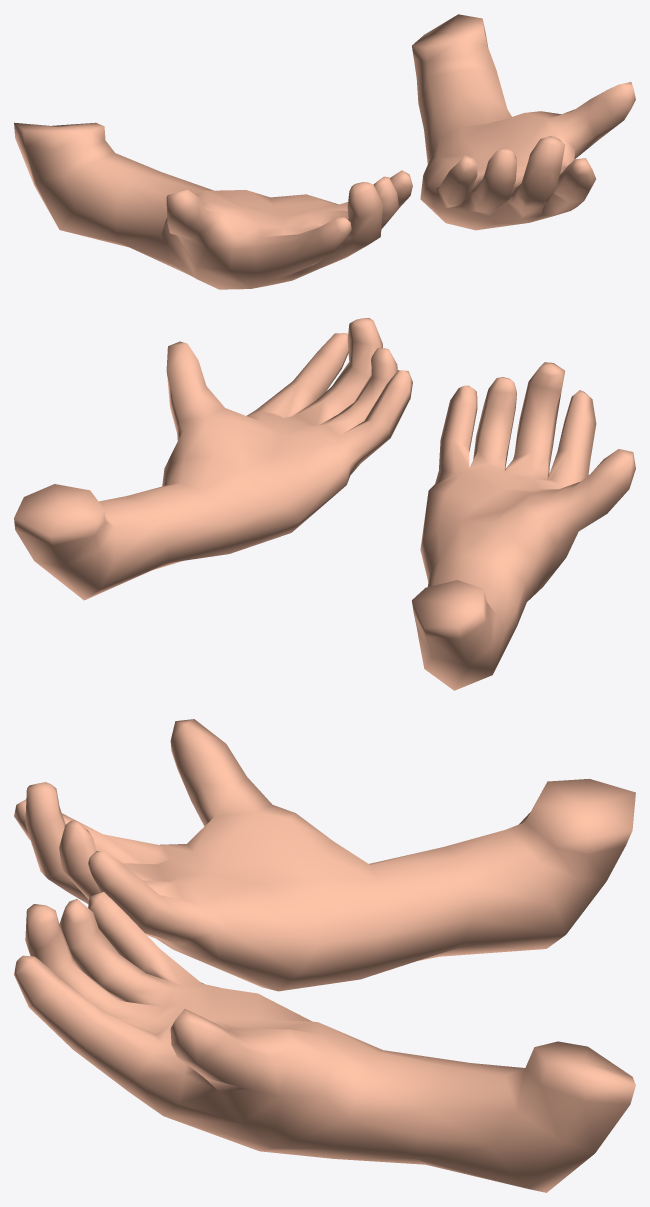
Rendered from AF_M_Arm_02_b.FBX.
3 views of the same model, one above another, from view 1: azimuth 30°, elevation 25°; view 2: azimuth 150°, elevation 25°; view 3: azimuth 270°, elevation 25° (orthographic). The views are drawn at different scales.
Parts seen in each view (by area): view 1: AF_M_Arm_02; view 2: AF_M_Arm_02; view 3: AF_M_Arm_02.
Boxes of the visible parts, x1,y1,x2,y2 form: AF_M_Arm_02: (14, 14, 635, 289); AF_M_Arm_02: (14, 318, 635, 690); AF_M_Arm_02: (14, 719, 635, 1192).
Bounding box in the file's own units: 458 × 158 × 394.
1 material, 1 textured.
